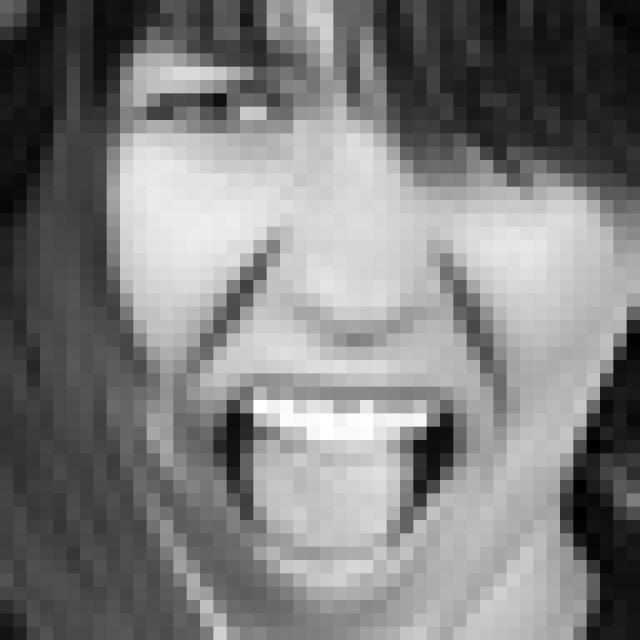angry: (121, 37, 574, 598)
